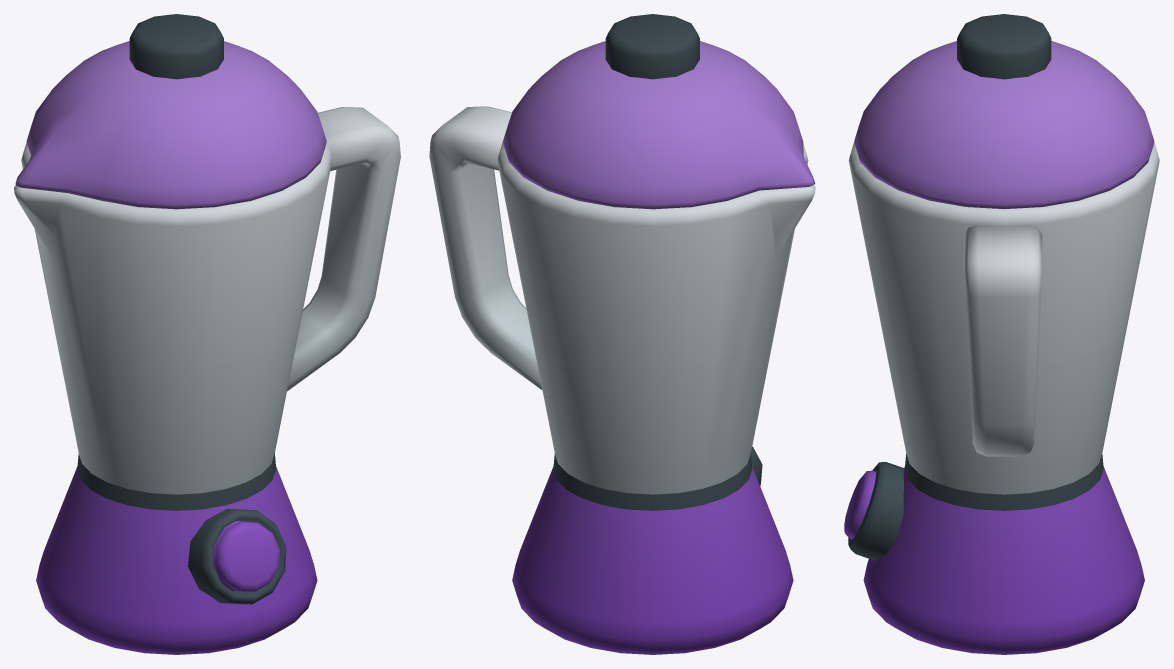
The model's file is Blender_01.glb.
3 views of the same model, side by side, from view 1: azimuth 30°, elevation 25°; view 2: azimuth 150°, elevation 25°; view 3: azimuth 270°, elevation 25° (orthographic).
Parts seen in each view (by area): view 1: Blender_01; view 2: Blender_01; view 3: Blender_01.
Part boxes in pixels (x1,y1,x2,y2): Blender_01: [14, 14, 400, 654]; Blender_01: [429, 14, 815, 654]; Blender_01: [844, 14, 1159, 654].
Size of the model in its own units: 0.2529 by 0.3764 by 0.1854.
2 materials, 2 textured.
